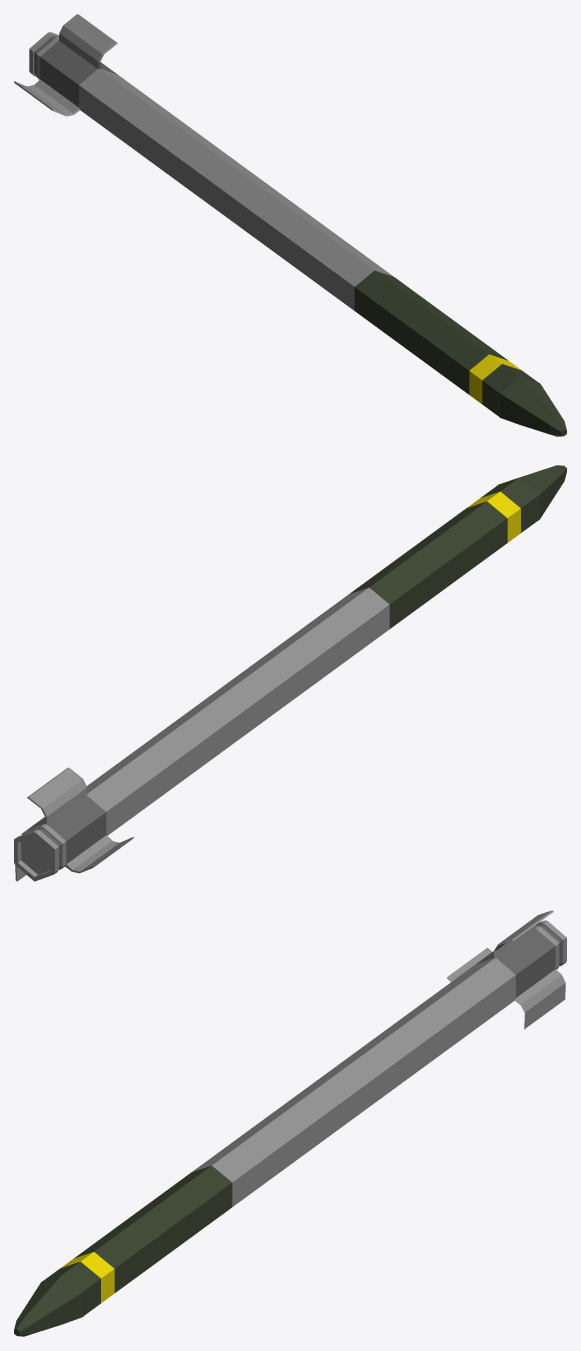
The model's file is hydra rocket.fbx.
3 views of the same model, one above another, from view 1: azimuth 30°, elevation 25°; view 2: azimuth 150°, elevation 25°; view 3: azimuth 330°, elevation 25° (orthographic). The views are drawn at different scales.
Parts seen in each view (by area): view 1: Cylinder; view 2: Cylinder; view 3: Cylinder.
Part boxes in pixels (box(x1,y1,x2,y2)): Cylinder: box(14, 14, 566, 436); Cylinder: box(14, 465, 566, 881); Cylinder: box(14, 910, 566, 1336).
Size of the model in its own units: 15.26 by 16.19 by 178.
